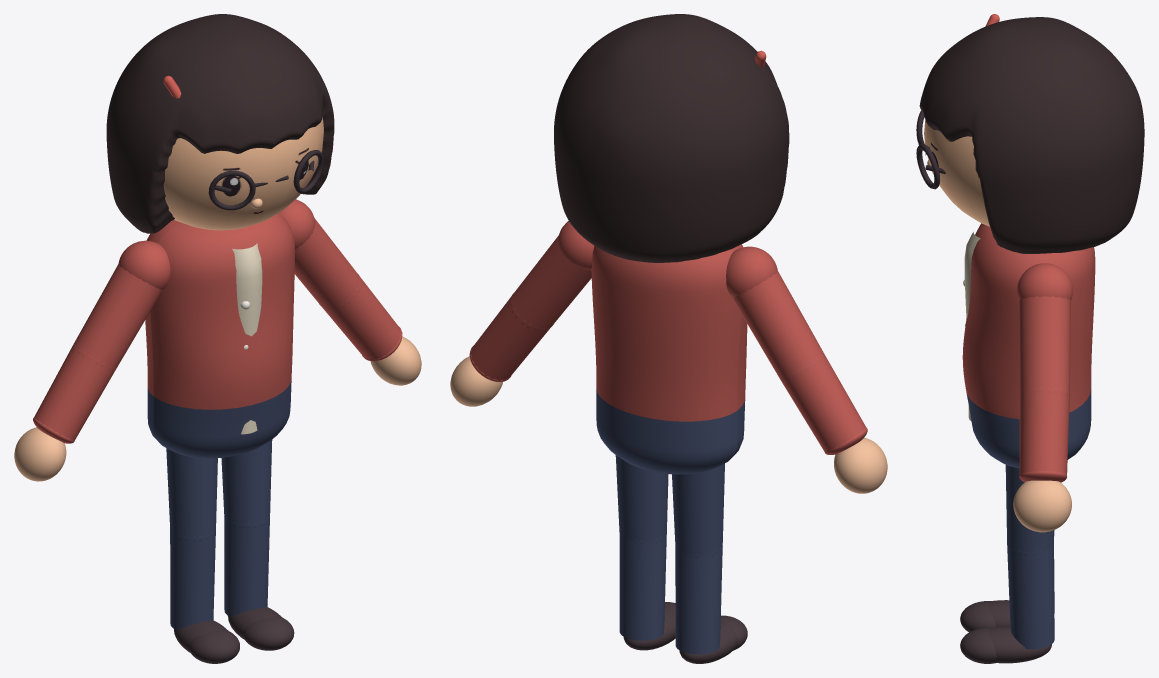
File: mei_middle.glb
3 views of the same model, side by side, from view 1: azimuth 30°, elevation 25°; view 2: azimuth 150°, elevation 25°; view 3: azimuth 270°, elevation 25° (orthographic). The views are drawn at different scales.
Visible parts, largest first — view 1: hair, torso, head, upper_arm_R, pelvis, upper_arm_L, lower_arm_R, thigh_R, shin_L, shin_R, thigh_L, lower_arm_L (+4 smaller); view 2: hair, torso, pelvis, upper_arm_R, upper_arm_L, shin_L, shin_R, lower_arm_R, thigh_R, thigh_L, lower_arm_L, hand_R (+3 smaller); view 3: hair, torso, upper_arm_L, lower_arm_L, shin_L, head, pelvis, hand_L, shoe_L, thigh_L, shoe_R.
Boxes of the visible parts, x1=… form: hair: x1=106, y1=14, x2=334, y2=233; torso: x1=145, y1=213, x2=294, y2=434; head: x1=163, y1=117, x2=324, y2=230; upper_arm_R: x1=72, y1=240, x2=170, y2=371; pelvis: x1=147, y1=381, x2=291, y2=458; upper_arm_L: x1=279, y1=199, x2=361, y2=310; lower_arm_R: x1=33, y1=346, x2=114, y2=443; thigh_R: x1=166, y1=448, x2=217, y2=541; shin_L: x1=224, y1=518, x2=269, y2=617; shin_R: x1=170, y1=531, x2=215, y2=630; thigh_L: x1=221, y1=439, x2=272, y2=528; lower_arm_L: x1=322, y1=277, x2=402, y2=361; hair: x1=554, y1=14, x2=789, y2=262; torso: x1=591, y1=244, x2=747, y2=421; pelvis: x1=596, y1=388, x2=745, y2=474; upper_arm_R: x1=726, y1=246, x2=825, y2=382; upper_arm_L: x1=509, y1=220, x2=594, y2=331; shin_L: x1=619, y1=534, x2=666, y2=640; shin_R: x1=675, y1=547, x2=722, y2=654; lower_arm_R: x1=782, y1=355, x2=867, y2=454; thigh_R: x1=672, y1=463, x2=724, y2=558; thigh_L: x1=615, y1=455, x2=668, y2=544; lower_arm_L: x1=469, y1=296, x2=550, y2=381; hand_R: x1=834, y1=438, x2=887, y2=493; hair: x1=919, y1=14, x2=1144, y2=253; torso: x1=962, y1=223, x2=1095, y2=421; upper_arm_L: x1=1017, y1=263, x2=1072, y2=396; lower_arm_L: x1=1019, y1=389, x2=1069, y2=482; shin_L: x1=1007, y1=544, x2=1054, y2=649; head: x1=916, y1=110, x2=989, y2=226; pelvis: x1=966, y1=389, x2=1091, y2=467; hand_L: x1=1013, y1=480, x2=1071, y2=532; shoe_L: x1=960, y1=626, x2=1051, y2=663; thigh_L: x1=1005, y1=465, x2=1054, y2=555; shoe_R: x1=960, y1=600, x2=1010, y2=632.
Bounding box in the file's own units: 1.18 × 1.69 × 0.5657.
10 materials, 1 textured.
